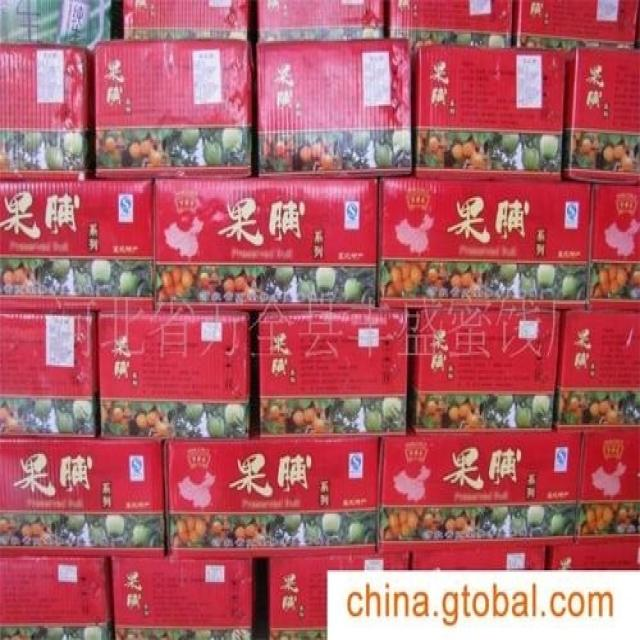box: (151, 179, 376, 314), (376, 179, 589, 309), (163, 435, 380, 560), (379, 428, 580, 555), (412, 44, 566, 183), (0, 179, 155, 316), (256, 41, 412, 176), (96, 43, 252, 177), (259, 309, 407, 442), (0, 440, 166, 558), (97, 312, 250, 440), (410, 309, 563, 433), (268, 551, 413, 640), (110, 556, 252, 640), (0, 314, 95, 439), (0, 44, 86, 177), (563, 46, 640, 184), (553, 311, 639, 427), (0, 558, 115, 640), (576, 423, 640, 541), (589, 184, 640, 312), (387, 0, 512, 49), (515, 0, 639, 48), (257, 0, 384, 41), (123, 0, 250, 41), (413, 544, 547, 572), (550, 538, 640, 568)
